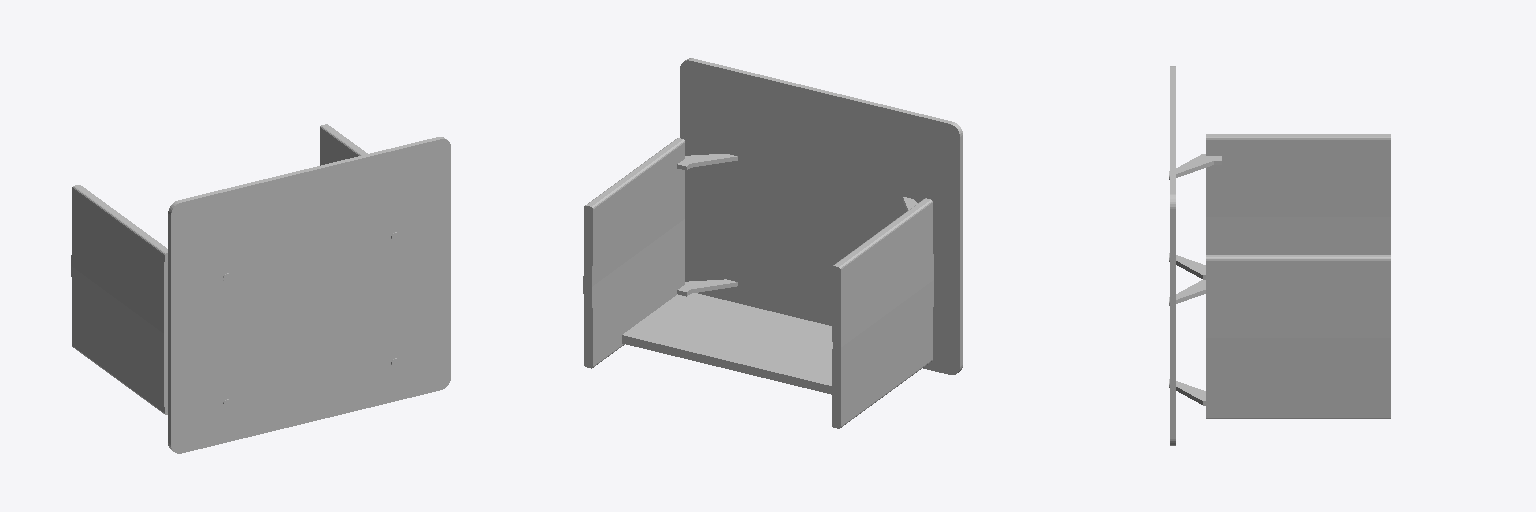
The model's file is table.obj.
The picture shows the model from 3 angles: view 1: azimuth 30°, elevation 25°; view 2: azimuth 150°, elevation 25°; view 3: azimuth 270°, elevation 25°; orthographic projection.
Parts seen in each view (by area): view 1: Rectangle2, Rectangle3, Rectangle1; view 2: Rectangle2, Rectangle3, Rectangle1, Rectangle0, Line12, Line11; view 3: Rectangle1, Rectangle3, Rectangle2, Line13.
Part boxes in pixels (left/top/right/bottom): Rectangle2: left=168, top=137, right=450, bottom=453; Rectangle3: left=71, top=185, right=167, bottom=414; Rectangle1: left=320, top=124, right=367, bottom=165; Rectangle2: left=680, top=58, right=962, bottom=374; Rectangle3: left=832, top=198, right=933, bottom=428; Rectangle1: left=583, top=138, right=684, bottom=368; Rectangle0: left=622, top=293, right=832, bottom=394; Line12: left=677, top=279, right=737, bottom=296; Line11: left=677, top=154, right=737, bottom=170; Rectangle1: left=1206, top=255, right=1390, bottom=418; Rectangle3: left=1206, top=134, right=1390, bottom=254; Rectangle2: left=1170, top=66, right=1175, bottom=445; Line13: left=1176, top=154, right=1221, bottom=177.
Bounding box in the file's own units: 1050 × 900 × 722.